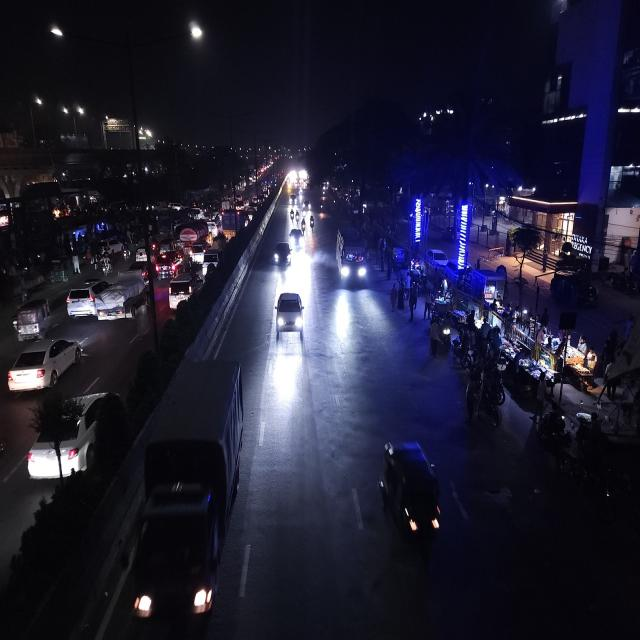bus: (333, 222, 369, 292)
car: (7, 334, 85, 396), (272, 287, 308, 350), (167, 266, 203, 313), (64, 285, 96, 321), (155, 248, 181, 279), (272, 239, 292, 271), (203, 247, 222, 272), (288, 226, 306, 252), (189, 243, 207, 264)
cng: (377, 434, 448, 560), (10, 296, 52, 340)
motorcycle: (122, 246, 130, 264), (309, 216, 316, 232)
pedestrian: (420, 276, 434, 322), (407, 278, 419, 322), (388, 278, 402, 312), (70, 253, 82, 275)
pickup_van: (132, 355, 248, 640), (99, 268, 148, 324)
rickshaw: (48, 256, 68, 284)
truck: (177, 220, 210, 251), (221, 210, 239, 240)
